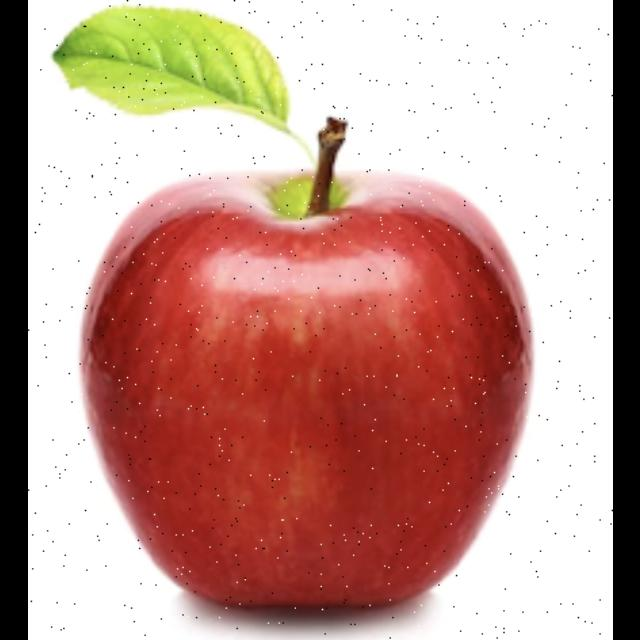Apel Segar: (77, 134, 529, 622)
